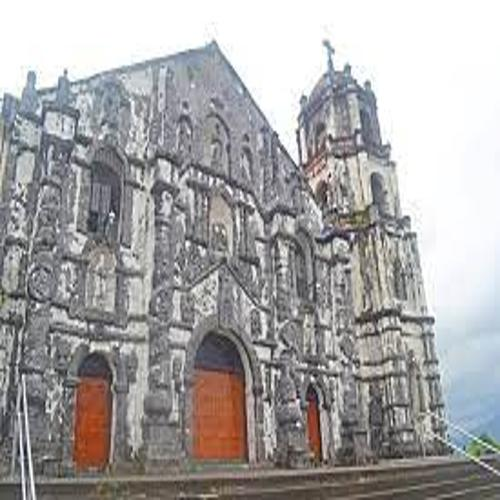Daraga Church: (5, 22, 453, 467)
